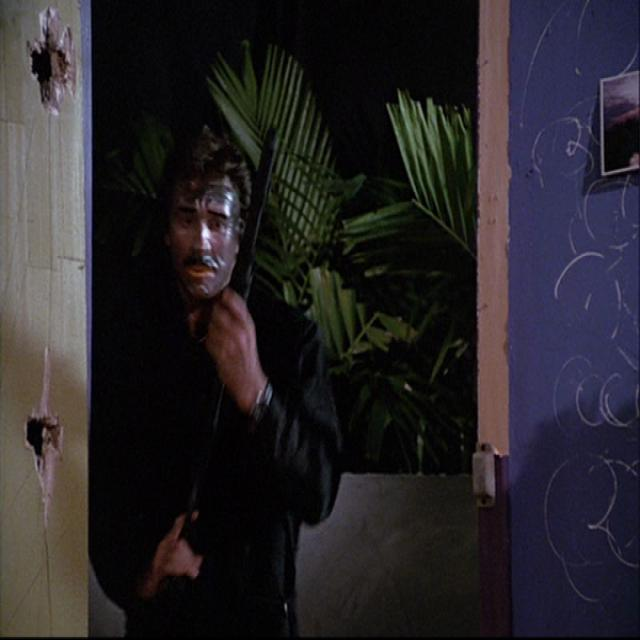rifle: (150, 120, 290, 634)
